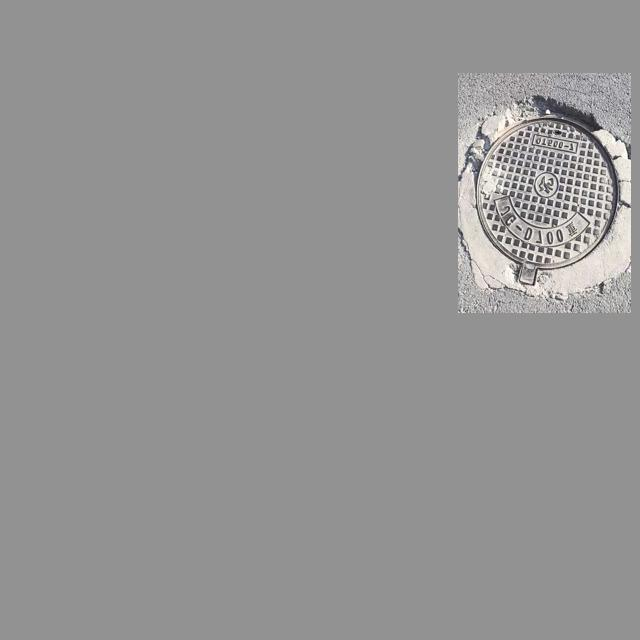circle: (464, 101, 626, 294)
